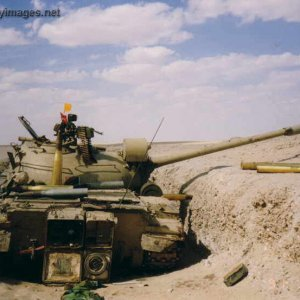Battle Tank: (1, 106, 300, 281)
